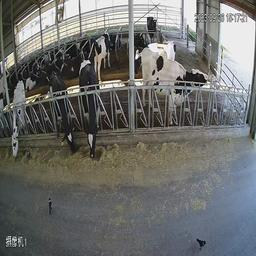cow: (139, 45, 209, 129), (42, 68, 77, 162), (78, 53, 104, 162), (9, 78, 33, 162), (93, 26, 116, 81), (148, 12, 159, 40)
